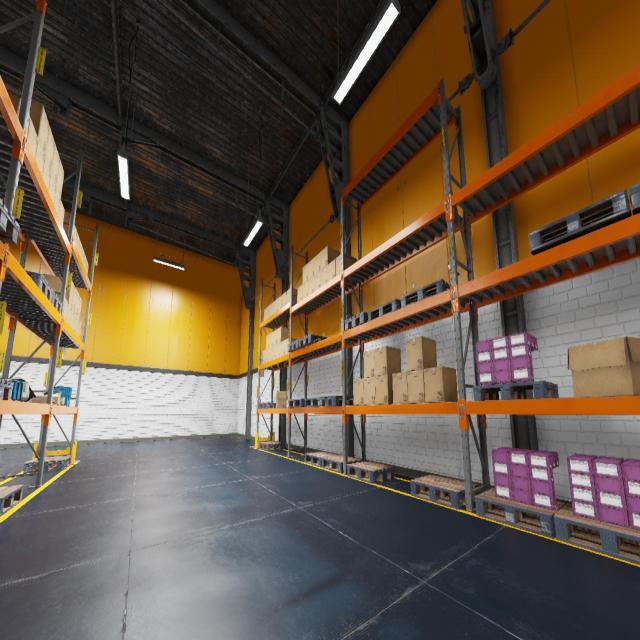box: (568, 337, 640, 397), (4, 83, 30, 134), (423, 367, 458, 402), (30, 99, 50, 156), (43, 273, 74, 308), (406, 336, 436, 371), (374, 346, 401, 376), (407, 369, 425, 403), (375, 375, 393, 404), (392, 372, 408, 404), (320, 245, 340, 270), (335, 253, 356, 276), (27, 116, 38, 158), (45, 126, 55, 172), (51, 143, 60, 186), (35, 138, 45, 174), (363, 349, 375, 378), (56, 159, 64, 198), (364, 377, 375, 405), (42, 157, 51, 190), (354, 378, 364, 405), (48, 173, 56, 203), (44, 390, 60, 404), (277, 326, 289, 344), (285, 338, 298, 354), (62, 211, 70, 236), (275, 392, 287, 408), (54, 187, 60, 215), (286, 288, 297, 303), (328, 259, 335, 281), (31, 395, 47, 404), (74, 291, 80, 315), (314, 252, 320, 275), (28, 395, 47, 402), (66, 304, 72, 326), (308, 258, 314, 280), (59, 199, 64, 225), (72, 286, 77, 312), (321, 265, 327, 286), (77, 296, 82, 320), (63, 298, 68, 321), (314, 271, 320, 290), (308, 276, 314, 295), (303, 263, 308, 284), (303, 280, 308, 299), (70, 308, 74, 329), (76, 232, 80, 252), (73, 312, 77, 332), (76, 316, 80, 336), (73, 224, 77, 243), (53, 290, 61, 299), (78, 320, 82, 338), (298, 284, 302, 302), (281, 340, 285, 356), (276, 342, 280, 358), (273, 330, 277, 346), (269, 332, 273, 348), (269, 346, 273, 361), (282, 292, 286, 307), (278, 295, 282, 310), (274, 298, 278, 313), (270, 302, 274, 316), (262, 350, 266, 363), (79, 240, 82, 257), (81, 247, 84, 264), (273, 344, 276, 359), (266, 334, 269, 349), (266, 348, 269, 362), (264, 307, 267, 321), (267, 305, 270, 318), (84, 253, 86, 270), (60, 397, 64, 405), (86, 260, 88, 275)
pallets: (528, 189, 632, 255), (553, 503, 640, 565), (475, 488, 565, 538), (410, 475, 478, 509), (472, 380, 558, 400), (401, 279, 451, 308), (347, 461, 394, 484), (25, 270, 53, 302), (23, 456, 72, 474), (0, 198, 19, 244), (0, 485, 24, 516), (368, 299, 401, 321), (321, 455, 361, 473), (304, 452, 340, 466), (344, 312, 368, 330), (299, 333, 327, 348), (628, 182, 640, 215), (319, 395, 354, 406), (0, 379, 14, 400), (51, 291, 62, 315), (288, 399, 318, 407), (258, 441, 282, 450), (288, 340, 306, 352), (304, 398, 320, 407), (259, 402, 276, 408)
